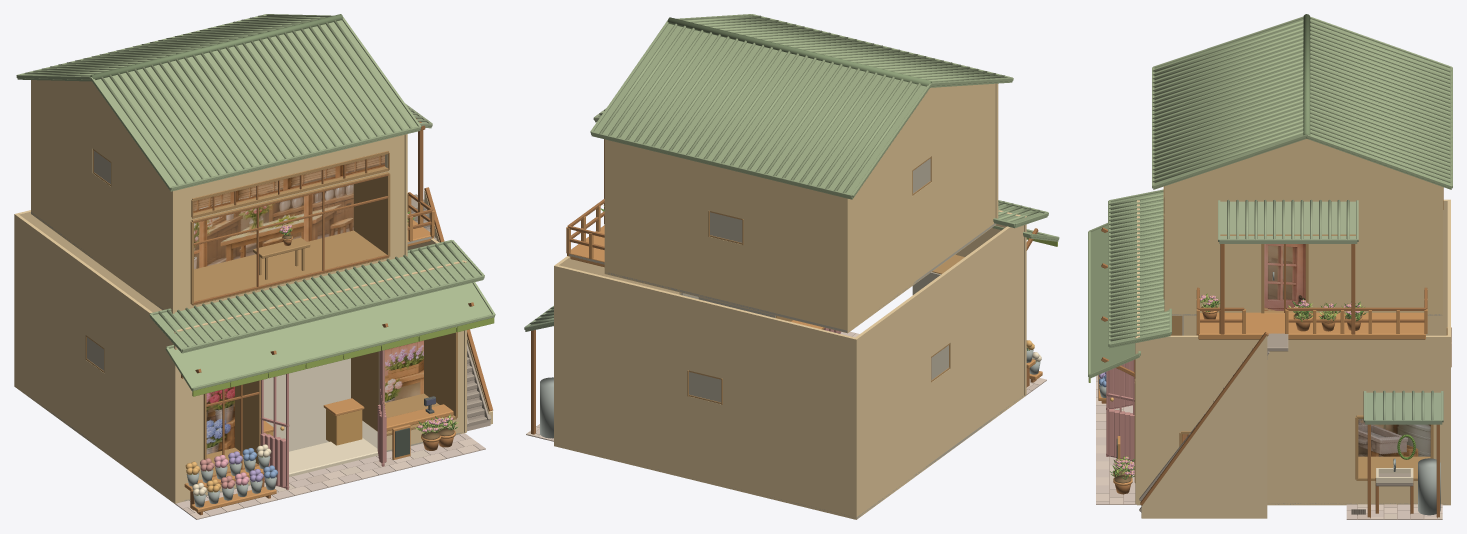
3 views of the same model, side by side, from view 1: azimuth 30°, elevation 25°; view 2: azimuth 150°, elevation 25°; view 3: azimuth 270°, elevation 25° (orthographic). The views are drawn at different scales.
Parts seen in each view (by area): view 1: SM_23_01_建筑墙体, SM_23_02_曲面屋顶, SM_23_04_门窗楼梯, SM_23_06_景观设施, SM_23_06_院内及专用铺地, SM_23_03_木构回廊, SM_23_05_景观植物; view 2: SM_23_01_建筑墙体, SM_23_02_曲面屋顶, SM_23_04_门窗楼梯, SM_23_03_木构回廊, SM_23_06_景观设施; view 3: SM_23_01_建筑墙体, SM_23_02_曲面屋顶, SM_23_04_门窗楼梯, SM_23_03_木构回廊, SM_23_06_院内及专用铺地, SM_23_06_景观设施, SM_23_05_景观植物.
Part boxes in pixels (<box>): SM_23_01_建筑墙体: <box>14,80,464,504</box>; SM_23_02_曲面屋顶: <box>16,14,495,391</box>; SM_23_04_门窗楼梯: <box>85,149,494,488</box>; SM_23_06_景观设施: <box>184,237,453,515</box>; SM_23_06_院内及专用铺地: <box>175,209,490,519</box>; SM_23_03_木构回廊: <box>171,118,492,503</box>; SM_23_05_景观植物: <box>279,211,458,450</box>; SM_23_01_建筑墙体: <box>554,83,1024,519</box>; SM_23_02_曲面屋顶: <box>524,14,1059,331</box>; SM_23_04_门窗楼梯: <box>566,156,1057,404</box>; SM_23_03_木构回廊: <box>531,83,1038,434</box>; SM_23_06_景观设施: <box>540,320,1042,438</box>; SM_23_01_建筑墙体: <box>1134,139,1450,505</box>; SM_23_02_曲面屋顶: <box>1088,14,1452,424</box>; SM_23_04_门窗楼梯: <box>1088,186,1451,512</box>; SM_23_03_木构回廊: <box>1101,185,1439,518</box>; SM_23_06_院内及专用铺地: <box>1096,351,1442,519</box>; SM_23_06_景观设施: <box>1098,372,1440,515</box>; SM_23_05_景观植物: <box>1110,293,1367,494</box>.
Size of the model in its own units: 11.18 by 11.77 by 10.96.
Materials: 46 (1 with a texture image).
